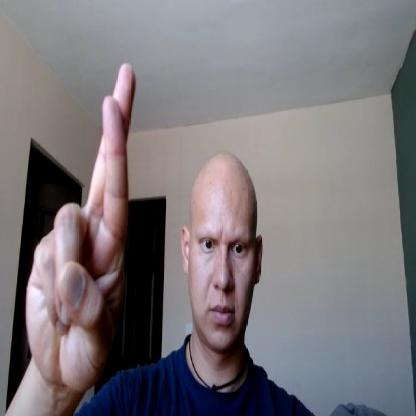R: (26, 63, 139, 380)
